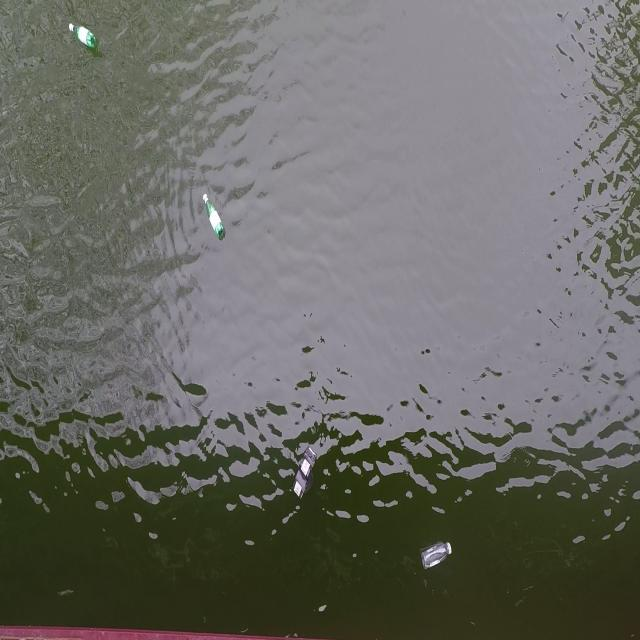Bouteille plastique: (201, 192, 227, 242), (66, 20, 100, 56), (417, 544, 454, 573)
